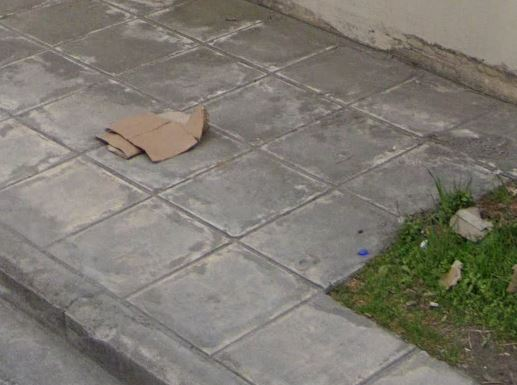trash: (90, 91, 215, 167), (445, 190, 499, 243), (434, 251, 469, 298), (353, 245, 372, 259)
